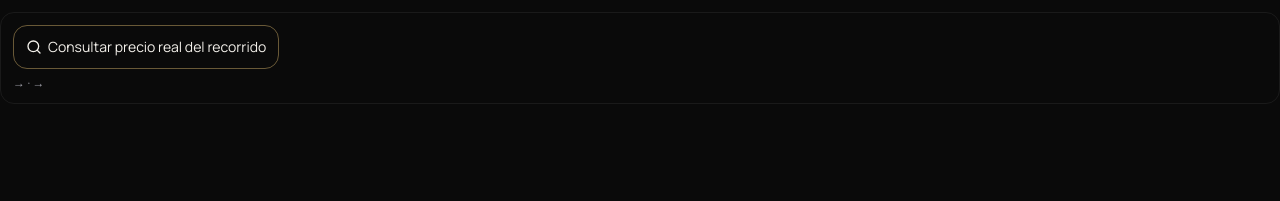
Scenario: los flujos lo usan › Comprar → Actualizar precio del recorrido: spinner los primeros 5 s, luego el globo
Click the button with test id "multi-precio-consultar".
click(146, 47)  # box [13,25,279,69]
Wait 5000 ms
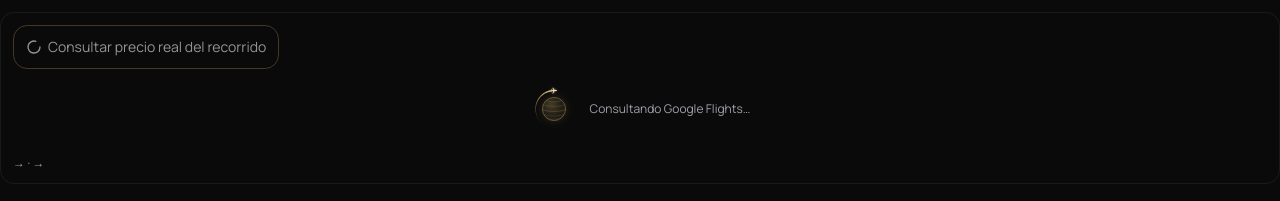
Check: the message "Consultando Google Flights…" is shown, box [530,85,750,133]
Check: the text "Consultando Google Flights…" is shown, box [590,101,750,117]
